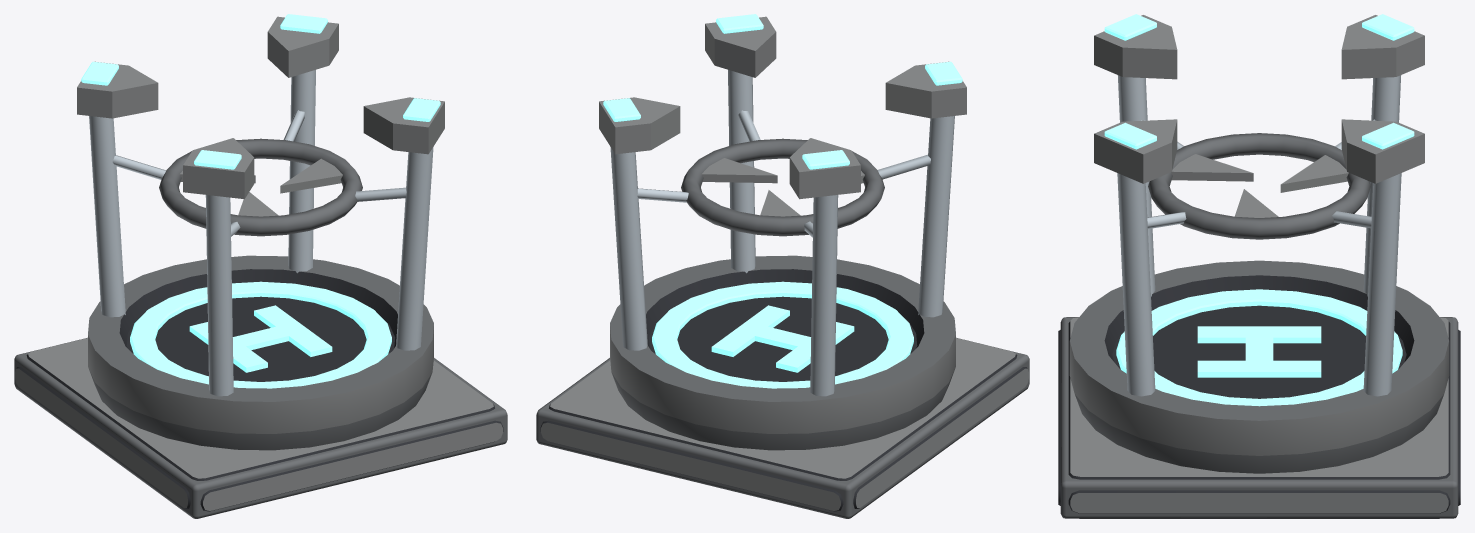
The model's file is R4X_FlyingDroneDeployer.glb.
The picture shows the model from 3 angles, left to right: view 1: azimuth 30°, elevation 25°; view 2: azimuth 150°, elevation 25°; view 3: azimuth 270°, elevation 25°; orthographic projection. The views are drawn at different scales.
Visible parts, largest first — view 1: R4X_FlyingDroneDeployer_Body, R4X_FlyingDroneDeployer_Iris; view 2: R4X_FlyingDroneDeployer_Body, R4X_FlyingDroneDeployer_Iris; view 3: R4X_FlyingDroneDeployer_Body, R4X_FlyingDroneDeployer_Iris.
Boxes of the visible parts, x1,y1,x2,y2 form: R4X_FlyingDroneDeployer_Body: (14,14,507,518); R4X_FlyingDroneDeployer_Iris: (159,138,362,236); R4X_FlyingDroneDeployer_Body: (536,14,1029,518); R4X_FlyingDroneDeployer_Iris: (681,138,884,236); R4X_FlyingDroneDeployer_Body: (1058,14,1460,518); R4X_FlyingDroneDeployer_Iris: (1148,133,1370,239).
Bounding box in the file's own units: 0.52 × 0.513 × 0.52.
